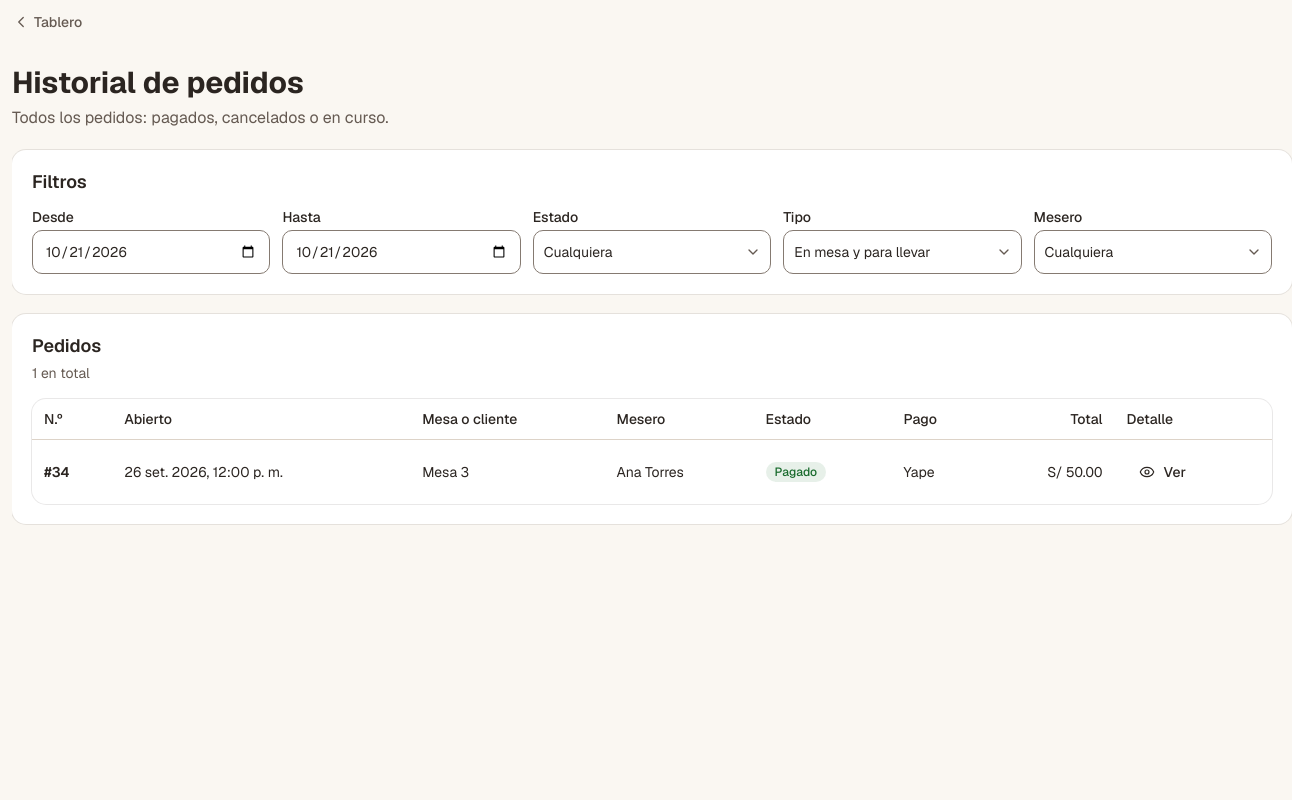
it: HistoryView › el detalle de una fila muestra los platos, el cobro y la nota
Click the button with aria-label "Ver el detalle del pedido #34".
click(1163, 472)  # box [1126,450,1199,494]
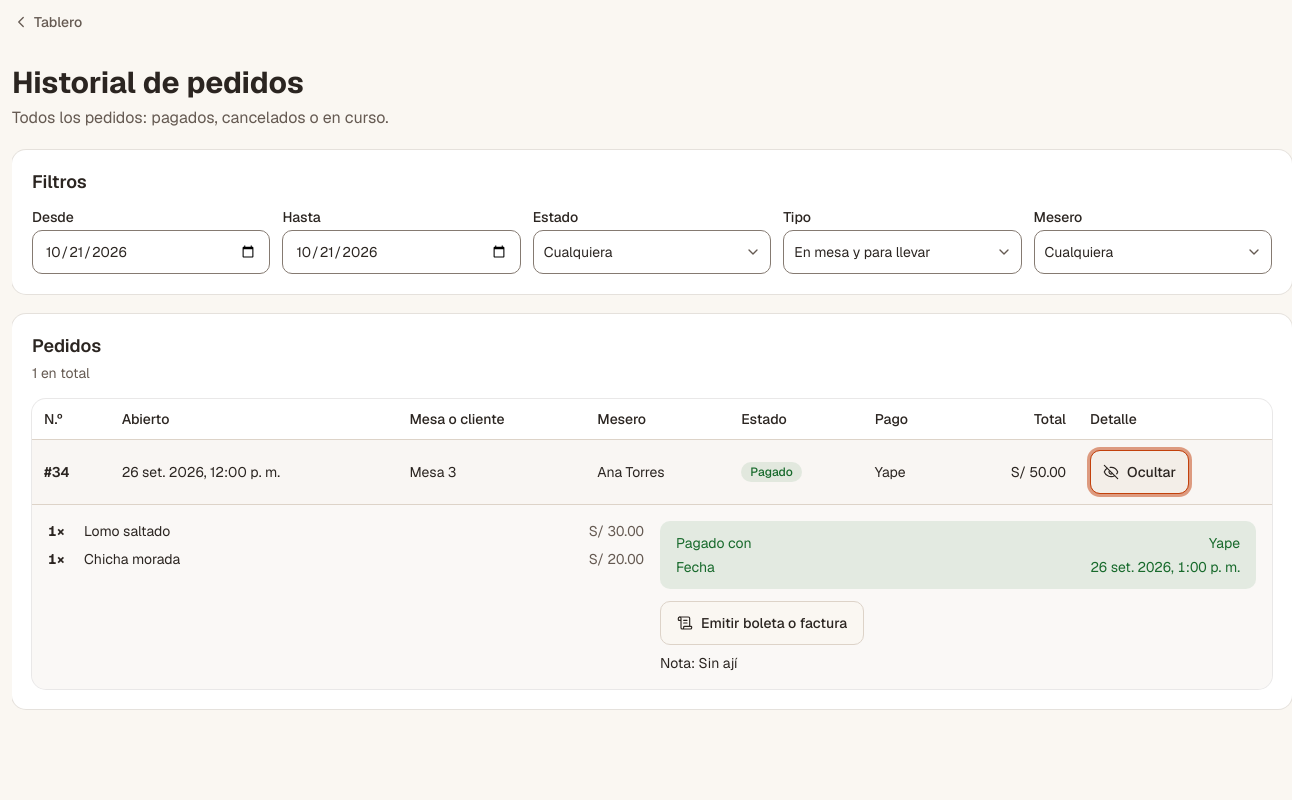
Expected: the text "Lomo saltado" is shown, [84,522,170,540]
Expected: the text "Pagado con" is shown, [676,534,752,552]
Expected: the text "Nota: Sin ají" is shown, [660,654,737,672]
